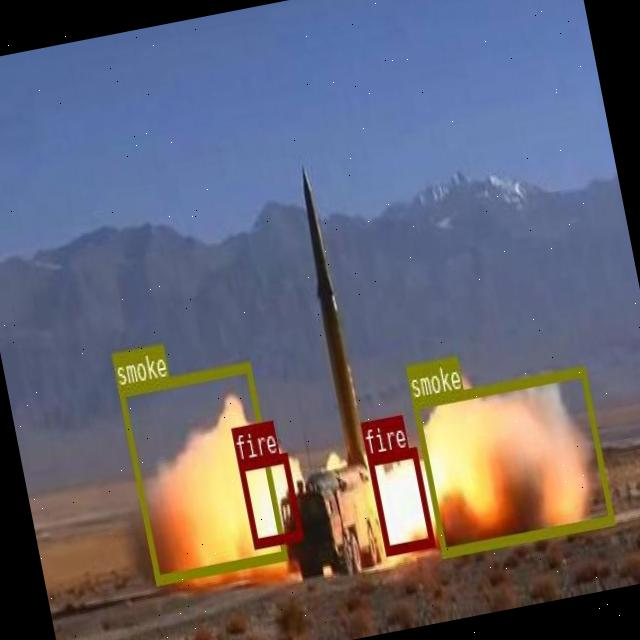fire: (366, 445, 434, 554), (238, 451, 302, 548)
smoke: (411, 366, 614, 556), (117, 362, 287, 584)
